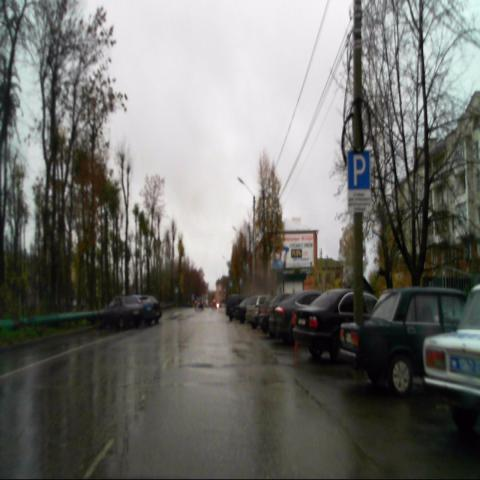6_4: (347, 151, 370, 189)
